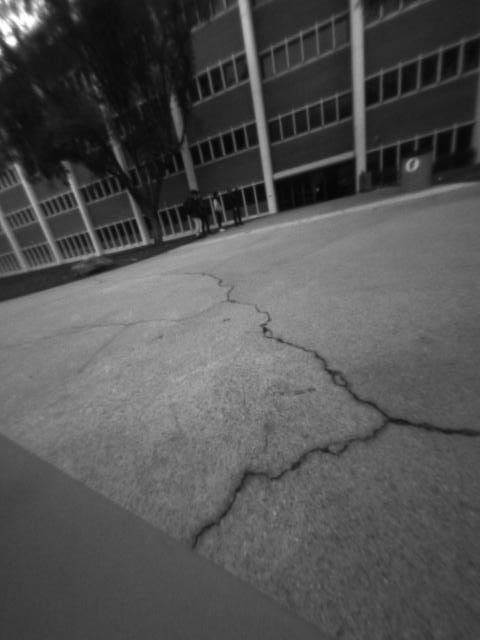trashcan: (397, 146, 436, 192)
